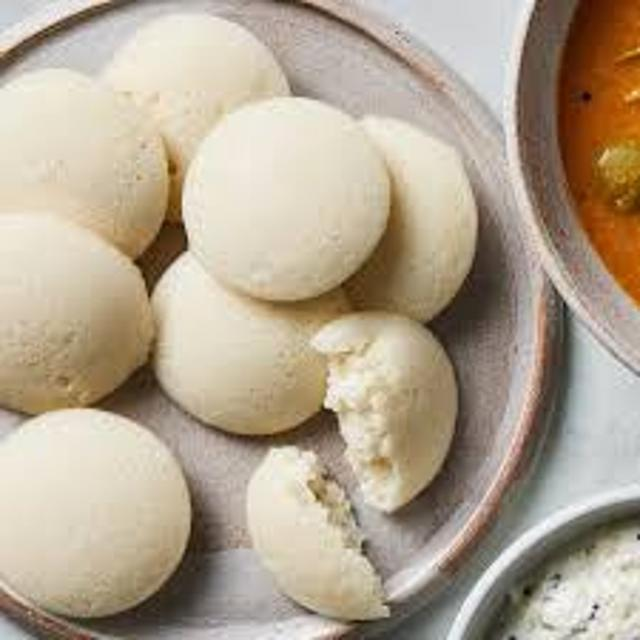idli: (0, 55, 452, 621)
